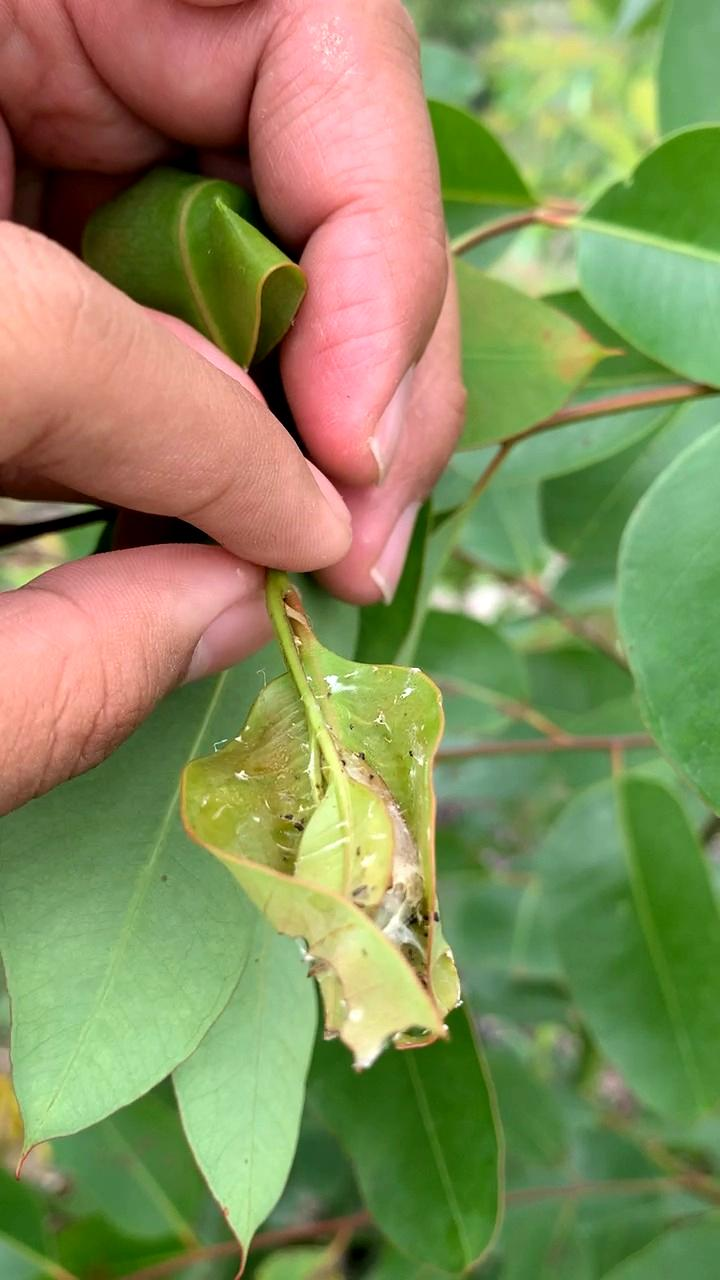Leaf Roller - Leaf: (141, 651, 475, 1105)
